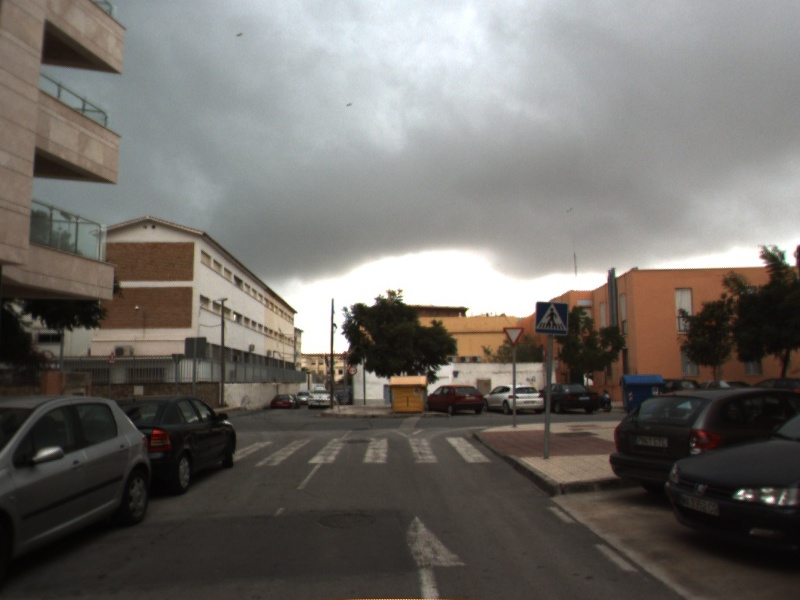STRAIGHT: (399, 511, 471, 600)
